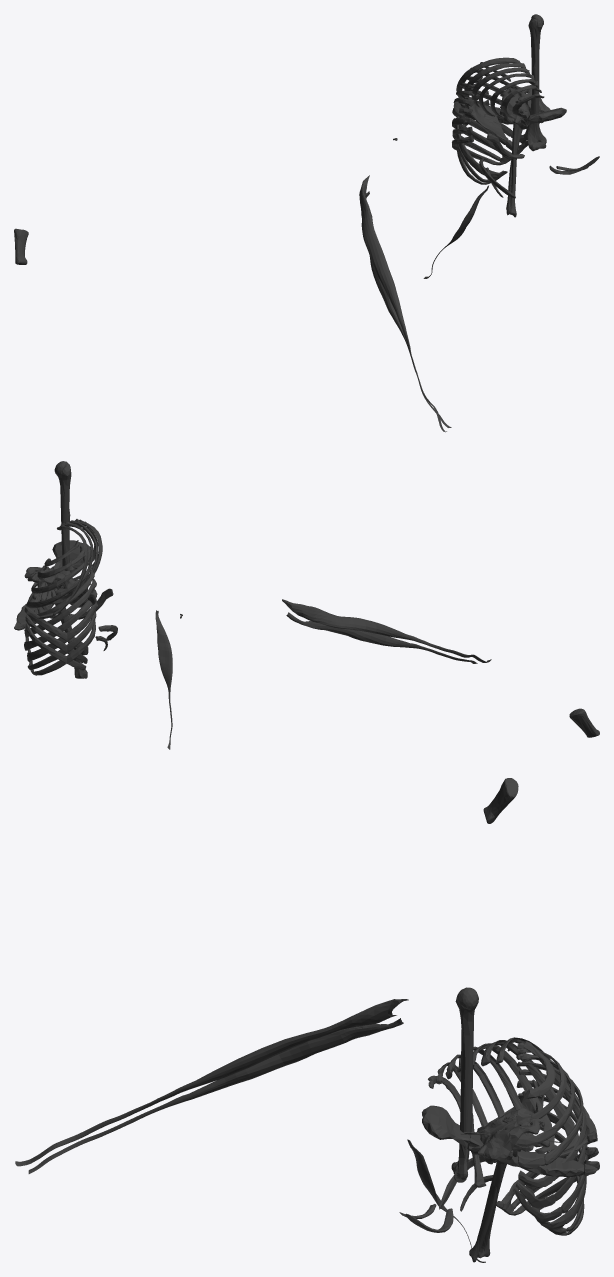
The model's file is sharedassets17.glb.
The picture shows the model from 3 angles, top to bottom: view 1: azimuth 30°, elevation 25°; view 2: azimuth 150°, elevation 25°; view 3: azimuth 270°, elevation 25°; orthographic projection. The views are drawn at different scales.
Parts seen in each view (by area): view 1: 0002_Extensor carpi radialis longus, R__10001, 0003_Humerus _arm, brachium_, R__000807, 0074_S01-05 Sacrum_male_001242, 0034_Scapula, R__000991, 0001_Extensor carpi radialis brevis, R__10001; view 2: 0002_Extensor carpi radialis longus, R__10001, 0001_Extensor carpi radialis brevis, R__10001, 0003_Humerus _arm, brachium_, R__000807, 0000_Flexor carpi radialis, R__1000158, 0053_Eighth rib _08_, L__002292, 0054_Ninth rib _09_, L__002293, 0055_Tenth rib _10_, L__002294, 0049_Seventh rib _07_, R__002279, 0074_S01-05 Sacrum_male_001242, 0061_Seventh rib _07_, L__002291, 0041_Eighth rib _08_, R__002280, 0043_Tenth rib _10_, R__002282 (+6 smaller); view 3: 0002_Extensor carpi radialis longus, R__10001, 0001_Extensor carpi radialis brevis, R__10001, 0003_Humerus _arm, brachium_, R__000807, 0074_S01-05 Sacrum_male_001242, 0038_Body of sternum__001163, 0037_Manubrium__001162, 0058_Fourth rib _04_, L__002288, 0048_Sixth rib _06_, R__002278, 0061_Seventh rib _07_, L__002291, 0057_Third rib _03_, L__002287, 0049_Seventh rib _07_, R__002279, 0047_Fifth rib _05_, R__002277 (+10 smaller).
Boxes of the visible parts, bbox=[...] form: 0002_Extensor carpi radialis longus, R__10001: bbox=[359, 175, 446, 432]; 0003_Humerus _arm, brachium_, R__000807: bbox=[527, 14, 546, 151]; 0074_S01-05 Sacrum_male_001242: bbox=[500, 85, 550, 129]; 0034_Scapula, R__000991: bbox=[453, 96, 506, 140]; 0001_Extensor carpi radialis brevis, R__10001: bbox=[366, 191, 451, 427]; 0002_Extensor carpi radialis longus, R__10001: bbox=[282, 599, 491, 662]; 0001_Extensor carpi radialis brevis, R__10001: bbox=[286, 612, 477, 663]; 0003_Humerus _arm, brachium_, R__000807: bbox=[54, 461, 73, 596]; 0000_Flexor carpi radialis, R__1000158: bbox=[155, 610, 172, 749]; 0053_Eighth rib _08_, L__002292: bbox=[27, 599, 97, 662]; 0054_Ninth rib _09_, L__002293: bbox=[27, 611, 96, 670]; 0055_Tenth rib _10_, L__002294: bbox=[30, 619, 95, 675]; 0049_Seventh rib _07_, R__002279: bbox=[34, 525, 88, 619]; 0074_S01-05 Sacrum_male_001242: bbox=[24, 566, 77, 591]; 0061_Seventh rib _07_, L__002291: bbox=[24, 589, 97, 650]; 0041_Eighth rib _08_, R__002280: bbox=[24, 606, 88, 655]; 0043_Tenth rib _10_, R__002282: bbox=[26, 624, 86, 670]; 0002_Extensor carpi radialis longus, R__10001: bbox=[15, 999, 408, 1166]; 0001_Extensor carpi radialis brevis, R__10001: bbox=[28, 1018, 403, 1173]; 0003_Humerus _arm, brachium_, R__000807: bbox=[451, 987, 478, 1182]; 0074_S01-05 Sacrum_male_001242: bbox=[471, 1108, 544, 1164]; 0038_Body of sternum__001163: bbox=[467, 1130, 584, 1177]; 0037_Manubrium__001162: bbox=[422, 1105, 469, 1147]; 0058_Fourth rib _04_, L__002288: bbox=[516, 1062, 583, 1168]; 0048_Sixth rib _06_, R__002278: bbox=[481, 1040, 578, 1153]; 0061_Seventh rib _07_, L__002291: bbox=[513, 1093, 587, 1223]; 0057_Third rib _03_, L__002287: bbox=[516, 1053, 575, 1146]; 0049_Seventh rib _07_, R__002279: bbox=[496, 1037, 597, 1157]; 0047_Fifth rib _05_, R__002277: bbox=[473, 1043, 555, 1153].
Bounding box in the file's own units: 0.7048 × 0.2961 × 0.4457.
1 material, 1 textured.
